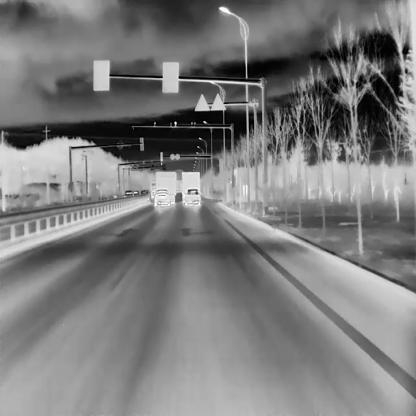car: (156, 172, 175, 203), (182, 172, 199, 202), (154, 189, 170, 206), (185, 188, 200, 205), (150, 181, 156, 199), (123, 190, 134, 198), (141, 189, 150, 195), (133, 189, 139, 195)
